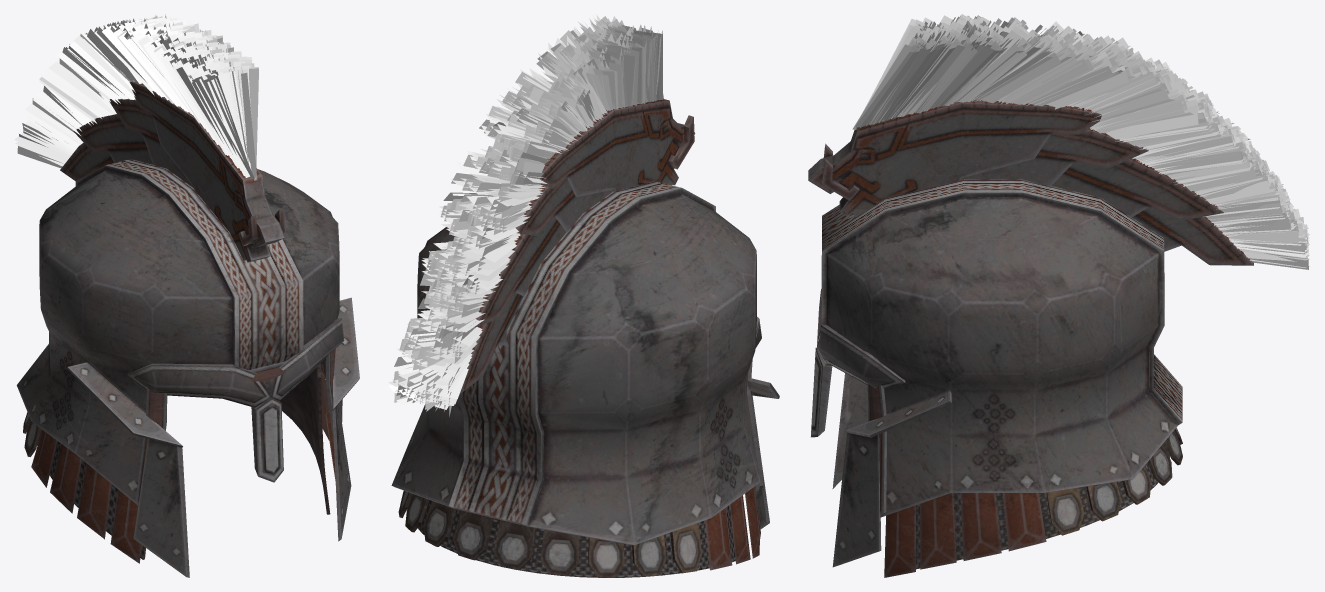
The model's file is sk_dwarf_iron_helmet_elite_d4.fbx.
3 views of the same model, side by side, from view 1: azimuth 30°, elevation 25°; view 2: azimuth 150°, elevation 25°; view 3: azimuth 270°, elevation 25° (orthographic). The views are drawn at different scales.
Parts seen in each view (by area): view 1: sk_dwarf_iron_helmet_elite_d4.0, sk_dwarf_iron_helmet_elite_d4.1; view 2: sk_dwarf_iron_helmet_elite_d4.0, sk_dwarf_iron_helmet_elite_d4.1; view 3: sk_dwarf_iron_helmet_elite_d4.0, sk_dwarf_iron_helmet_elite_d4.1.
Part boxes in pixels (<box>): sk_dwarf_iron_helmet_elite_d4.0: <box>16,81,359,577</box>; sk_dwarf_iron_helmet_elite_d4.1: <box>14,14,258,180</box>; sk_dwarf_iron_helmet_elite_d4.0: <box>391,99,779,577</box>; sk_dwarf_iron_helmet_elite_d4.1: <box>388,14,663,416</box>; sk_dwarf_iron_helmet_elite_d4.0: <box>808,100,1253,577</box>; sk_dwarf_iron_helmet_elite_d4.1: <box>852,14,1310,269</box>.
Size of the model in its own units: 0.2896 by 0.412 by 0.4524.
Materials: 2 (1 with a texture image).
